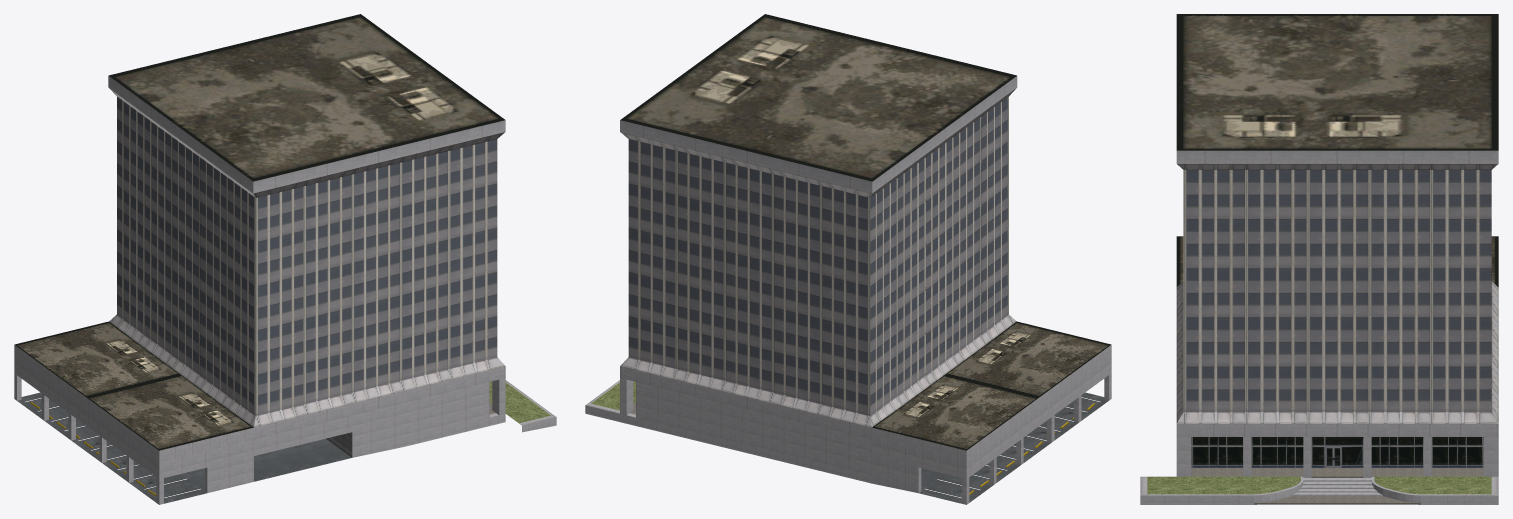
The model's file is vegasnbank1.obj.
The picture shows the model from 3 angles, left to right: view 1: azimuth 30°, elevation 25°; view 2: azimuth 150°, elevation 25°; view 3: azimuth 270°, elevation 25°; orthographic projection. The views are drawn at different scales.
Visible parts, largest first — view 1: vegasNbank1; view 2: vegasNbank1; view 3: vegasNbank1.
Boxes of the visible parts, <box> form: vegasNbank1: <box>14,14,556,504</box>; vegasNbank1: <box>585,14,1111,504</box>; vegasNbank1: <box>1140,14,1498,504</box>.
Bounding box in the file's own units: 80.01 × 60.58 × 58.61.
15 materials, 14 textured.
